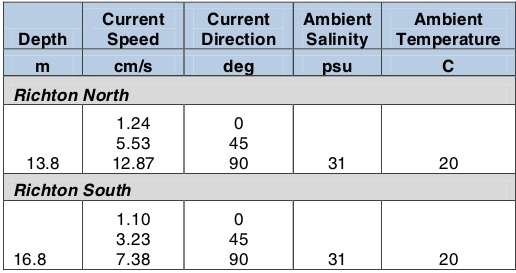column: (379, 1, 516, 271), (182, 1, 293, 270), (82, 3, 184, 268), (294, 1, 379, 271), (1, 1, 84, 273)
row: (1, 104, 516, 174), (1, 199, 516, 269), (1, 1, 516, 49), (1, 172, 516, 201), (1, 47, 516, 75), (1, 76, 516, 102)
